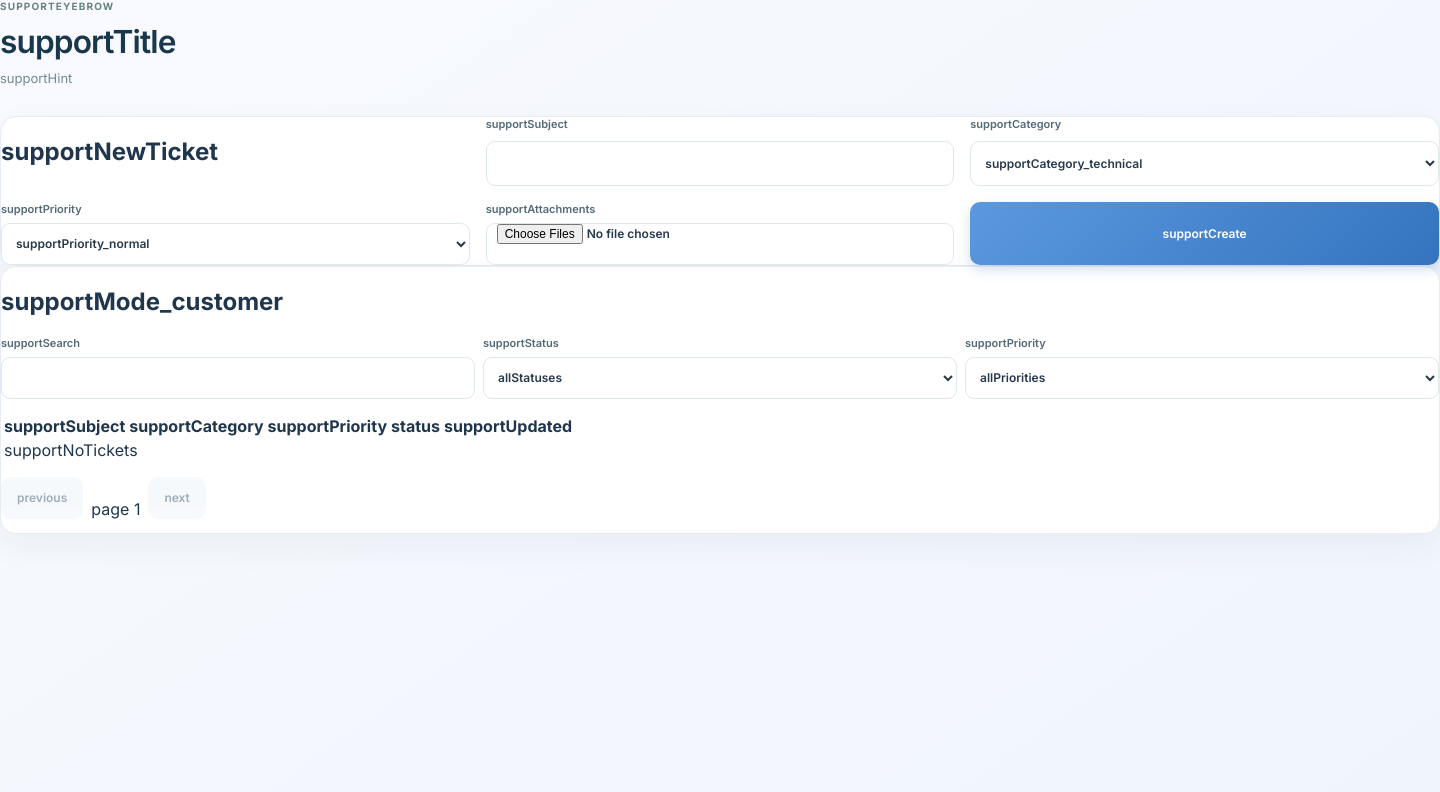
Test case: SupportPage › creates a school support ticket and shows the submitted ticket detail
In the field labelled "supportSubject": (720, 163) left=486, top=141, right=954, bottom=186, type "Cannot sign in"
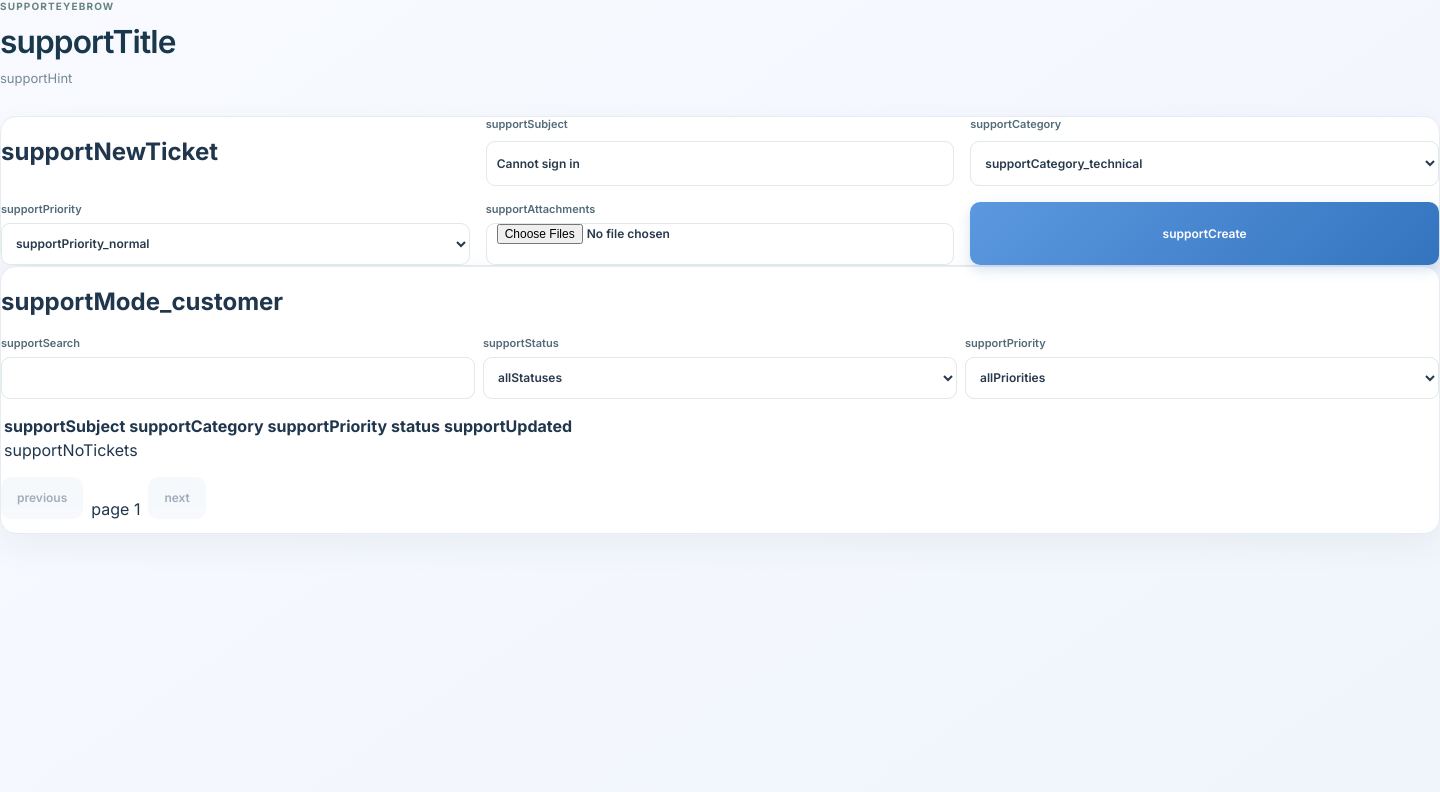
Click the button "supportCreate": (1205, 233) left=970, top=202, right=1439, bottom=265
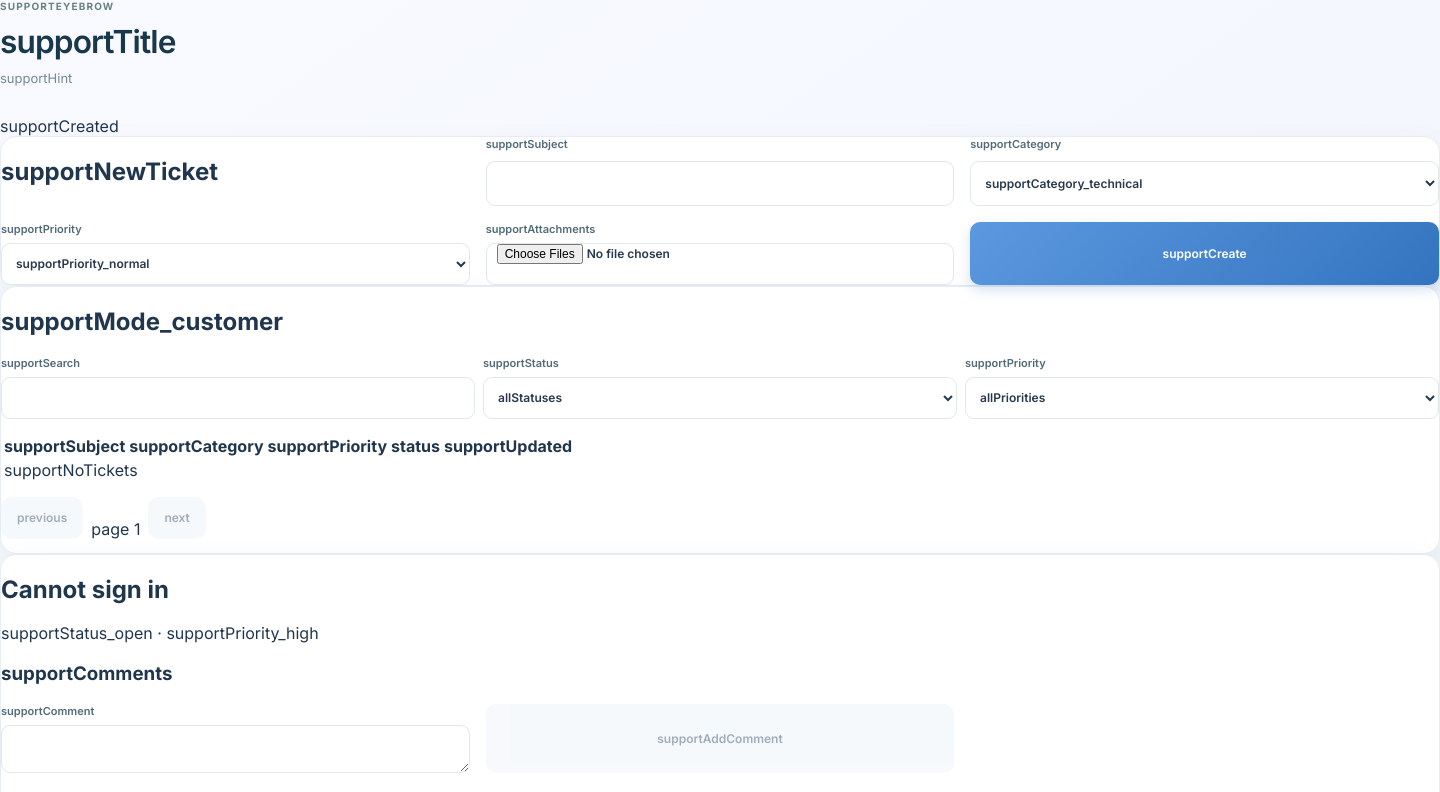
Expected: the text "supportCreated" is shown, left=0, top=116, right=119, bottom=136
